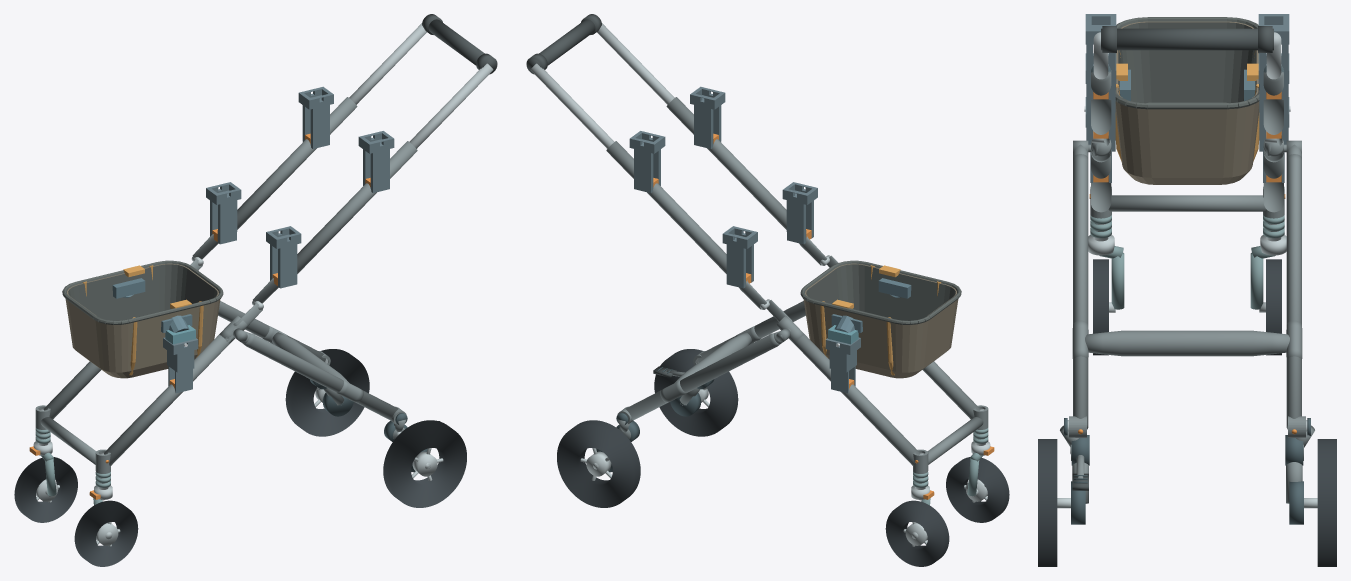
File: S15_w380_state1_wheel_S.glb
3 renders of one model, left to right at view 1: azimuth 30°, elevation 25°; view 2: azimuth 150°, elevation 25°; view 3: azimuth 270°, elevation 25°, orthographic. The views are drawn at different scales.
Visible parts, largest first — view 1: S15_Cabin, RL_tire.009, RR_tire.009, FL_tire.009, FR_tire.009, main_lower_-1, V46_rear_leg_-1.002, main_upper_-1, main_upper_1, Universal_Cabin_Receiver_M_1, Universal_Cabin_Receiver_H_1, Universal_Cabin_Receiver_M_-1 (+10 smaller); view 2: S15_Cabin, RR_tire.009, RL_tire.009, FR_tire.009, FL_tire.009, main_lower_1, V46_rear_leg_1.002, main_upper_1, main_upper_-1, Universal_Cabin_Receiver_M_-1, Universal_Cabin_Receiver_M_1, Universal_Cabin_Receiver_H_-1 (+10 smaller); view 3: S15_Cabin, V46_rearbar.002, V46_rear_leg_1.002, V46_rear_leg_-1.002, round_handle.010, front_fixed_round_tube, RL_tire.009, RR_tire.009, Universal_Cabin_Receiver_H_1, Universal_Cabin_Receiver_H_-1, FL_tire.009, FR_tire.009 (+22 smaller).
Part boxes in pixels (x1=…): S15_Cabin: x1=62, y1=260, x2=223, y2=378; RL_tire.009: x1=383, y1=420, x2=466, y2=507; RR_tire.009: x1=285, y1=349, x2=369, y2=436; FL_tire.009: x1=74, y1=500, x2=138, y2=566; FR_tire.009: x1=14, y1=457, x2=77, y2=522; main_lower_-1: x1=104, y1=334, x2=233, y2=465; V46_rear_leg_-1.002: x1=243, y1=333, x2=398, y2=420; main_upper_-1: x1=297, y1=141, x2=417, y2=273; main_upper_1: x1=237, y1=97, x2=357, y2=229; Universal_Cabin_Receiver_M_1: x1=206, y1=182, x2=241, y2=244; Universal_Cabin_Receiver_H_1: x1=298, y1=86, x2=333, y2=148; Universal_Cabin_Receiver_M_-1: x1=266, y1=226, x2=301, y2=288; S15_Cabin: x1=800, y1=260, x2=961, y2=378; RR_tire.009: x1=557, y1=420, x2=640, y2=507; RL_tire.009: x1=654, y1=349, x2=738, y2=436; FR_tire.009: x1=885, y1=500, x2=949, y2=566; FL_tire.009: x1=946, y1=457, x2=1009, y2=522; main_lower_1: x1=790, y1=334, x2=919, y2=465; V46_rear_leg_1.002: x1=625, y1=333, x2=780, y2=420; main_upper_1: x1=606, y1=141, x2=726, y2=273; main_upper_-1: x1=666, y1=97, x2=786, y2=229; Universal_Cabin_Receiver_M_-1: x1=782, y1=182, x2=817, y2=244; Universal_Cabin_Receiver_M_1: x1=722, y1=226, x2=757, y2=288; Universal_Cabin_Receiver_H_-1: x1=690, y1=86, x2=725, y2=148; S15_Cabin: x1=1115, y1=17, x2=1259, y2=184; V46_rearbar.002: x1=1085, y1=330, x2=1289, y2=356; V46_rear_leg_1.002: x1=1286, y1=154, x2=1301, y2=429; V46_rear_leg_-1.002: x1=1073, y1=154, x2=1088, y2=429; round_handle.010: x1=1101, y1=28, x2=1273, y2=50; front_fixed_round_tube: x1=1108, y1=195, x2=1266, y2=211; RL_tire.009: x1=1038, y1=439, x2=1057, y2=566; RR_tire.009: x1=1317, y1=439, x2=1336, y2=566; Universal_Cabin_Receiver_H_1: x1=1258, y1=14, x2=1289, y2=99; Universal_Cabin_Receiver_H_-1: x1=1085, y1=14, x2=1116, y2=99; FL_tire.009: x1=1093, y1=259, x2=1108, y2=355; FR_tire.009: x1=1266, y1=259, x2=1281, y2=355.
Bounding box in the file's own units: 1.09 × 1.02 × 0.4671.
